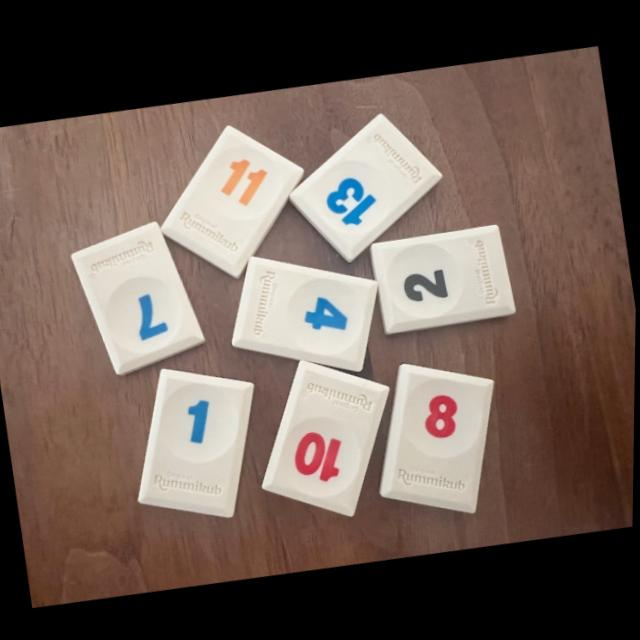black_2: (371, 223, 516, 332)
blue_1: (140, 368, 254, 515)
blue_13: (292, 112, 443, 260)
blue_4: (233, 256, 378, 370)
blue_7: (73, 222, 206, 373)
orange_11: (162, 124, 303, 277)
red_10: (264, 359, 389, 514)
red_8: (381, 363, 495, 510)
